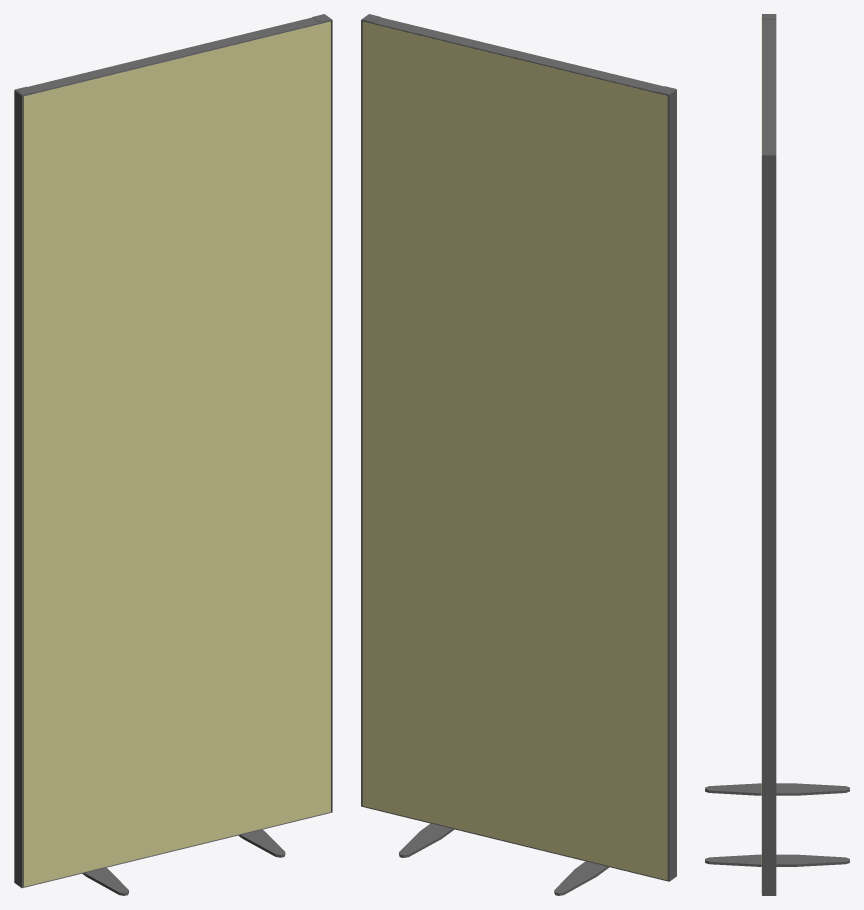
Rendered from Standard 3ft.glb.
The picture shows the model from 3 angles, left to right: view 1: azimuth 30°, elevation 25°; view 2: azimuth 150°, elevation 25°; view 3: azimuth 270°, elevation 25°; orthographic projection. The views are drawn at different scales.
Parts seen in each view (by area): view 1: toggle_back_panel, Standard 3ft; view 2: Standard 3ft; view 3: Standard 3ft, toggle_back_panel.
Part boxes in pixels (x1,y1,x2,y2): toggle_back_panel: (23,21,330,886); Standard 3ft: (14,14,332,895); Standard 3ft: (361,14,676,895); Standard 3ft: (705,14,849,895); toggle_back_panel: (761,16,761,893).
Size of the model in its own units: 0.969 by 2.37 by 0.4191.
